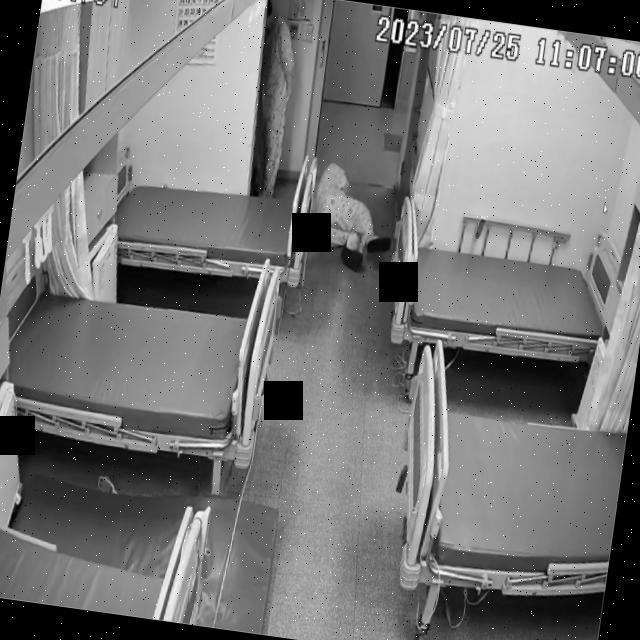bed: (384, 338, 636, 611), (0, 275, 278, 463), (380, 223, 628, 373), (111, 164, 312, 287)
fall: (303, 154, 405, 280)
patient: (243, 0, 305, 198), (305, 156, 403, 276)
stand: (242, 0, 305, 197)
